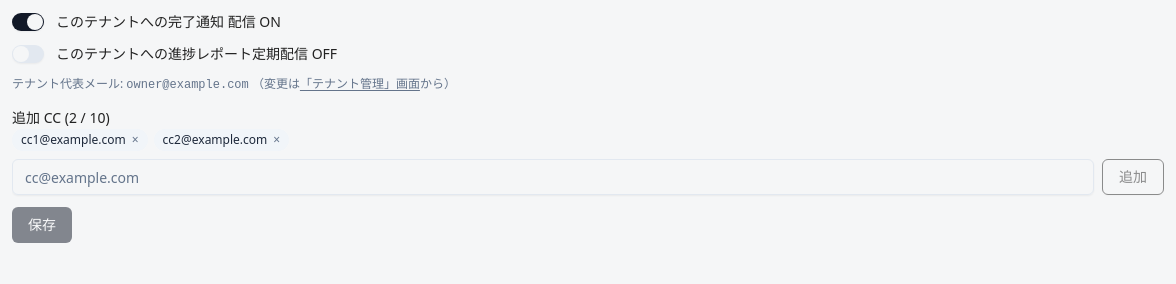
Scenario: TenantCcForm › case-insensitive 重複はエラーで弾く
This screenshot has width=1176, height=284.
Expected: the text "cc1@example.com" is shown, [21,131,126,148]
Type "CC1@Example.com" into the field named "追加する CC メール" at (553, 177), box [12,159,1094,195]
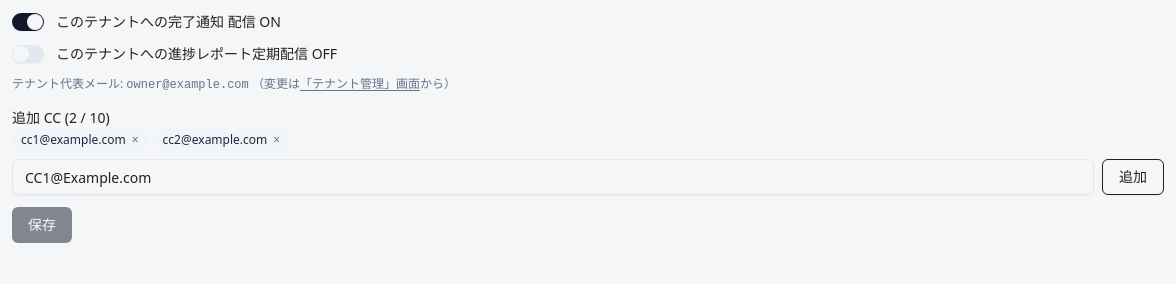
Click the button "追加" at (1133, 177), box [1102,159,1164,195]
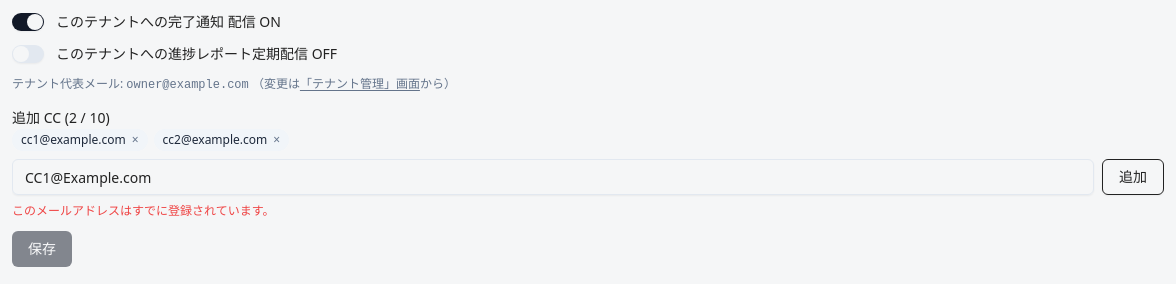
Expected: the text "追加 CC (2 / 10)" is shown, [12,108,110,127]
Result: the text "このメールアドレスはすでに登録されています。" is shown at [12,202,275,219]
